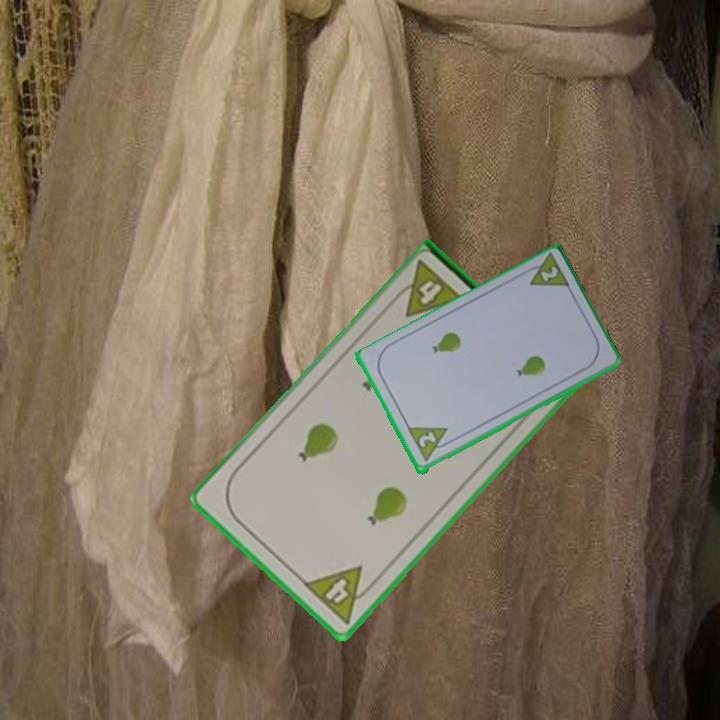2p: (415, 428, 439, 451), (537, 263, 561, 285)
4p: (300, 562, 381, 628), (388, 257, 468, 321)
